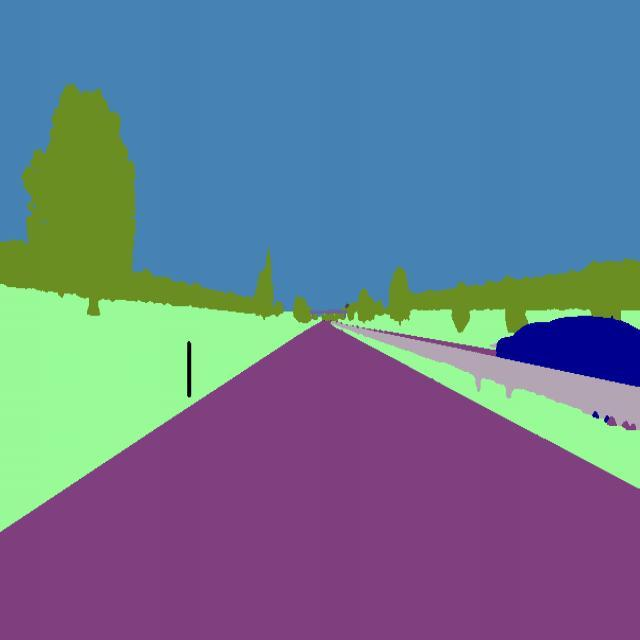safe: (534, 306, 640, 395), (493, 316, 567, 383)
